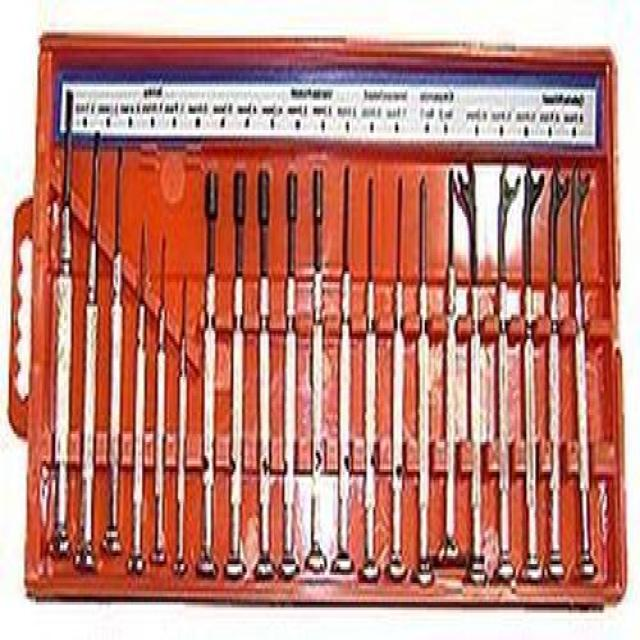screw driver: (52, 59, 78, 552), (125, 204, 149, 576)
